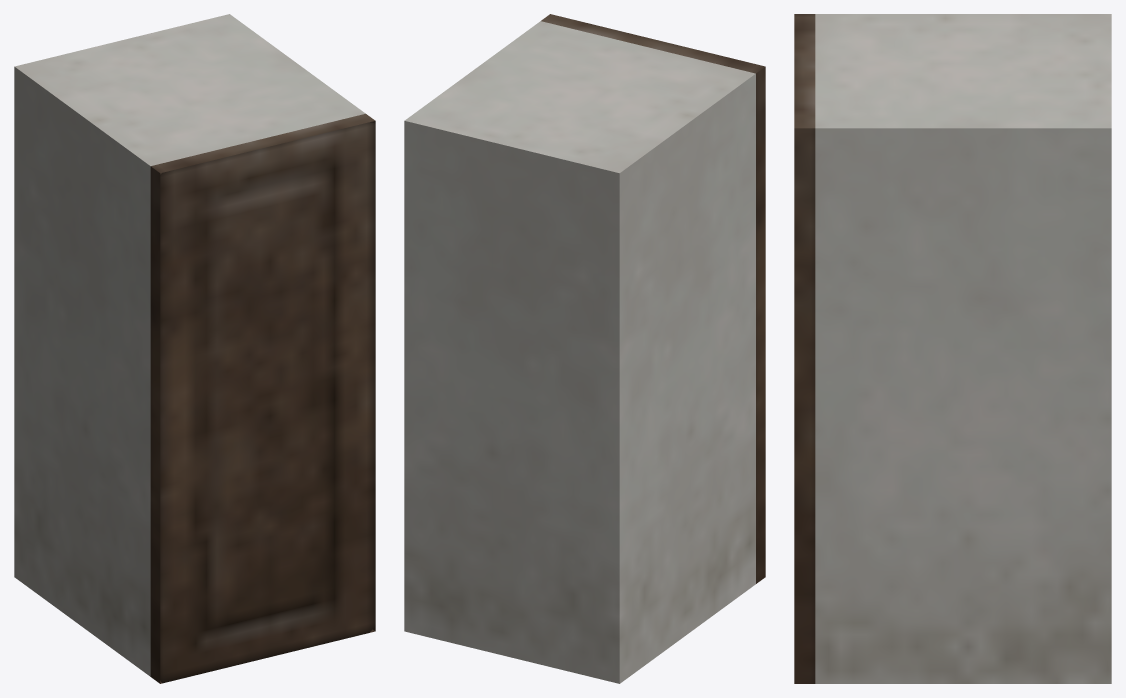
File: SM_EC_House_Kitchen_Cupboard_Static_00.fbx
3 renders of one model, left to right at view 1: azimuth 30°, elevation 25°; view 2: azimuth 150°, elevation 25°; view 3: azimuth 270°, elevation 25°, orthographic. The views are drawn at different scales.
Parts seen in each view (by area): view 1: SM_EC_House_Kitchen_Cupboard_Static_00; view 2: SM_EC_House_Kitchen_Cupboard_Static_00; view 3: SM_EC_House_Kitchen_Cupboard_Static_00.
Part boxes in pixels (x1=…): SM_EC_House_Kitchen_Cupboard_Static_00: x1=14, y1=14, x2=375, y2=683; SM_EC_House_Kitchen_Cupboard_Static_00: x1=404, y1=14, x2=765, y2=683; SM_EC_House_Kitchen_Cupboard_Static_00: x1=794, y1=14, x2=1111, y2=683.
Size of the model in its own units: 0.6431 by 0.7546 by 1.46.
